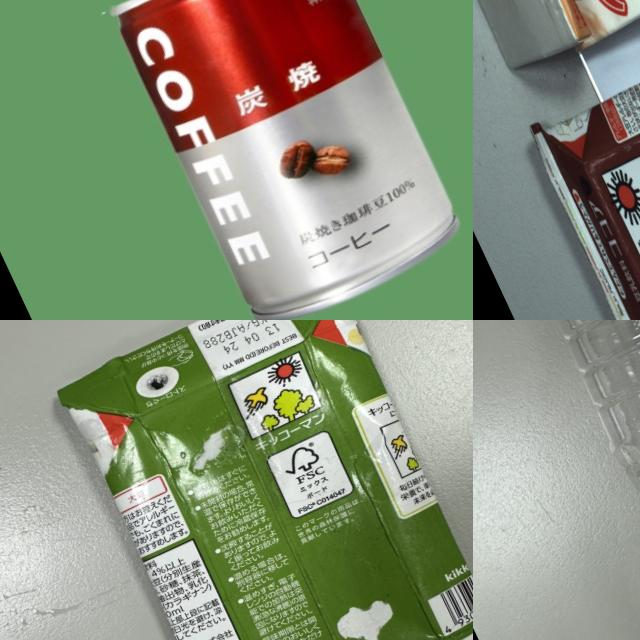Aluminium Foil: (37, 320, 473, 640), (517, 0, 640, 320), (473, 0, 640, 99)
Can: (89, 0, 473, 320)
Transparent Plastic Bottle: (474, 320, 640, 640)
